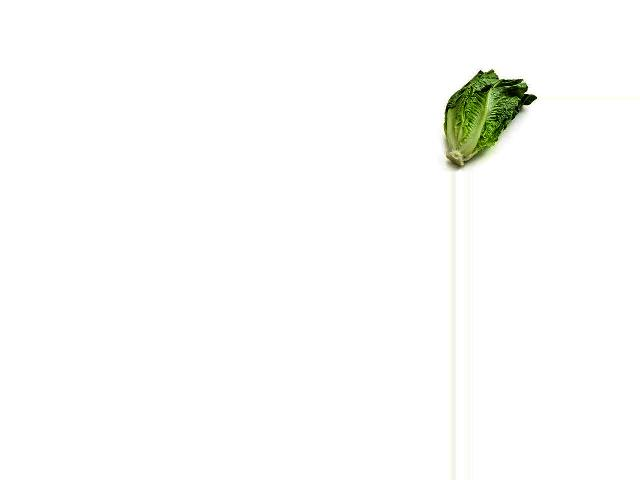lettuce: (441, 65, 535, 163)
